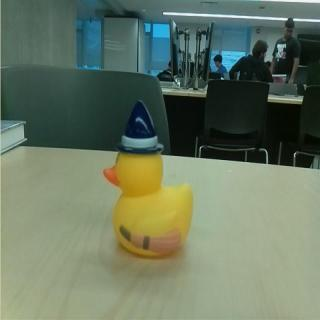duck_specialty: (102, 99, 196, 259)
